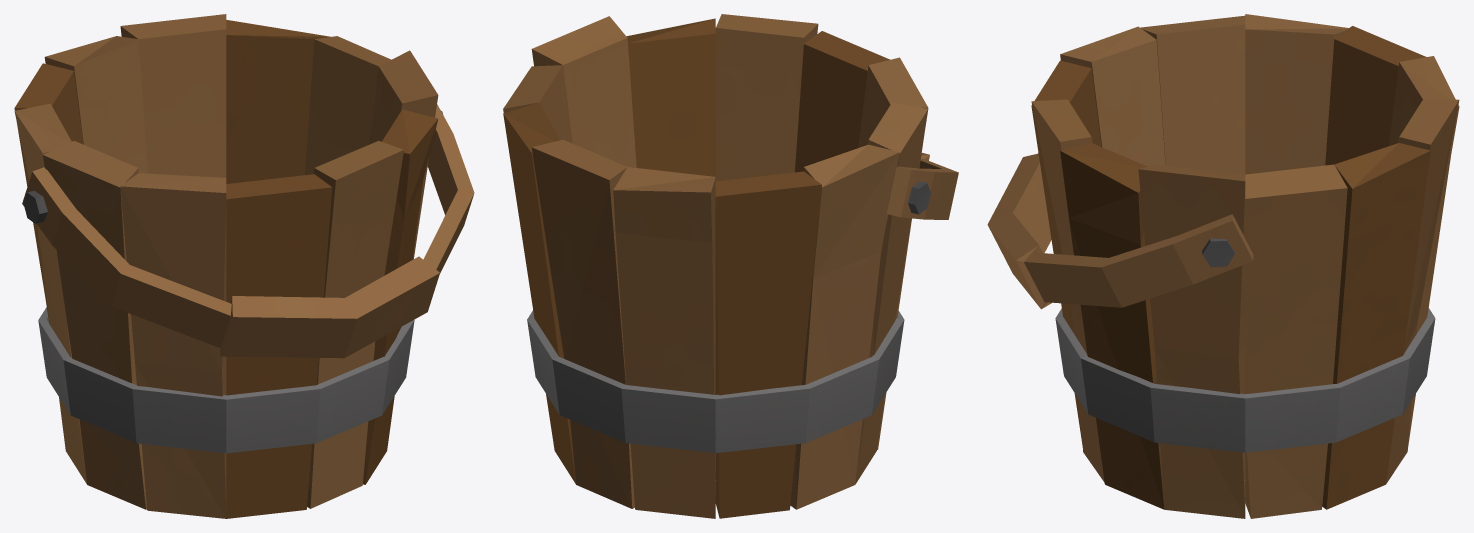
File: Bucket_wood.fbx
3 views of the same model, side by side, from view 1: azimuth 30°, elevation 25°; view 2: azimuth 150°, elevation 25°; view 3: azimuth 270°, elevation 25° (orthographic).
Parts seen in each view (by area): view 1: Bucket; view 2: Bucket; view 3: Bucket.
Boxes of the visible parts, left/top/right/bottom form: Bucket: left=14, top=14, right=474, bottom=518; Bucket: left=503, top=14, right=958, bottom=518; Bucket: left=987, top=14, right=1459, bottom=518.
Size of the model in its own units: 0.5707 by 0.4852 by 0.5773.
Materials: 1 (1 with a texture image).
